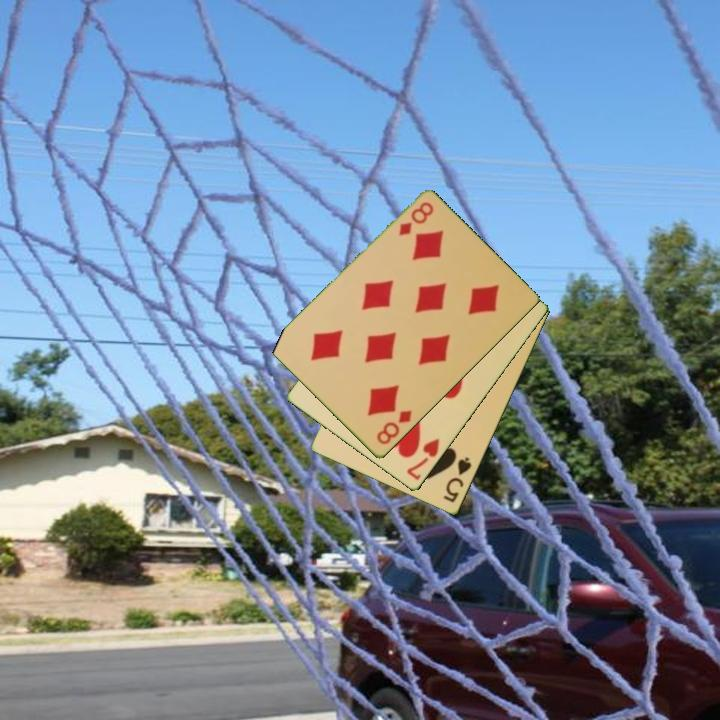5s: (440, 454, 475, 506)
7h: (403, 435, 443, 483)
8d: (373, 407, 415, 448), (395, 199, 437, 239)
